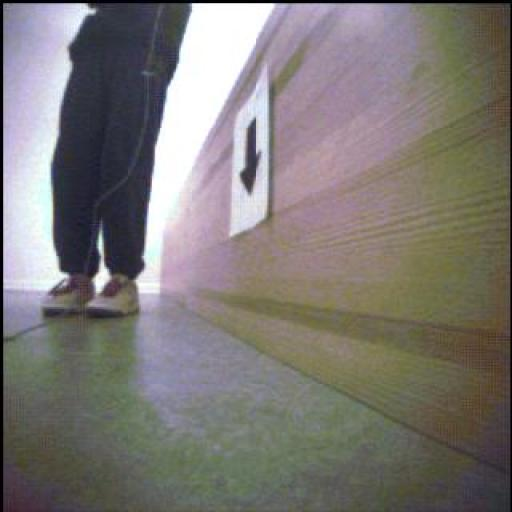Arrow: (241, 120, 262, 195)
